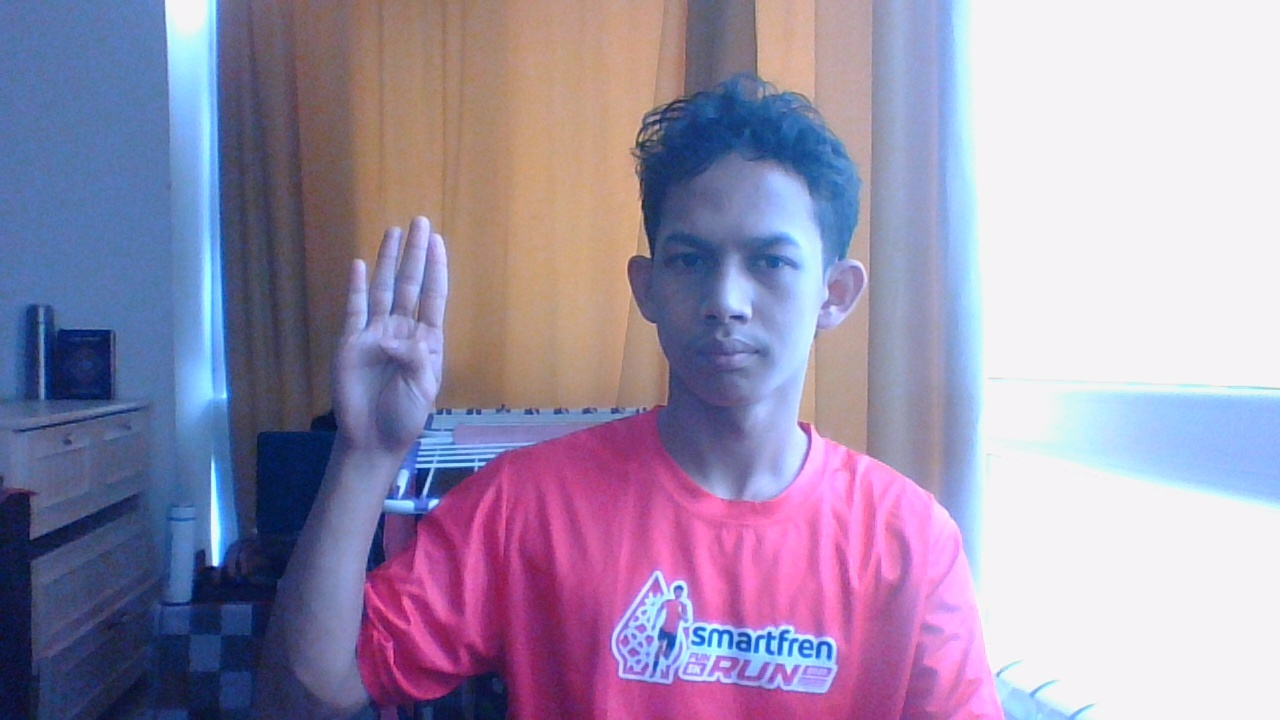help: (318, 189, 471, 459)
